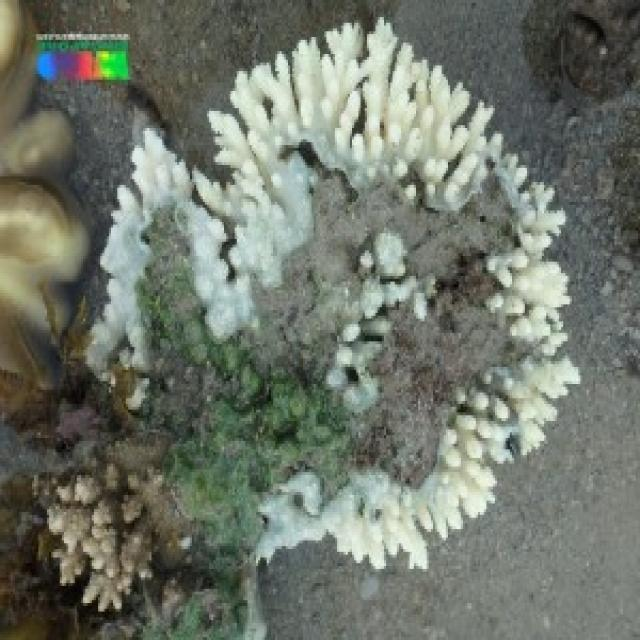Bleached: (210, 29, 489, 206), (441, 161, 578, 474), (105, 126, 212, 369), (326, 464, 489, 574), (55, 463, 150, 607), (195, 214, 307, 310), (363, 252, 412, 322), (338, 323, 371, 403), (266, 485, 318, 535)
Healthy: (158, 347, 327, 470), (144, 472, 240, 635), (1, 348, 51, 640)
